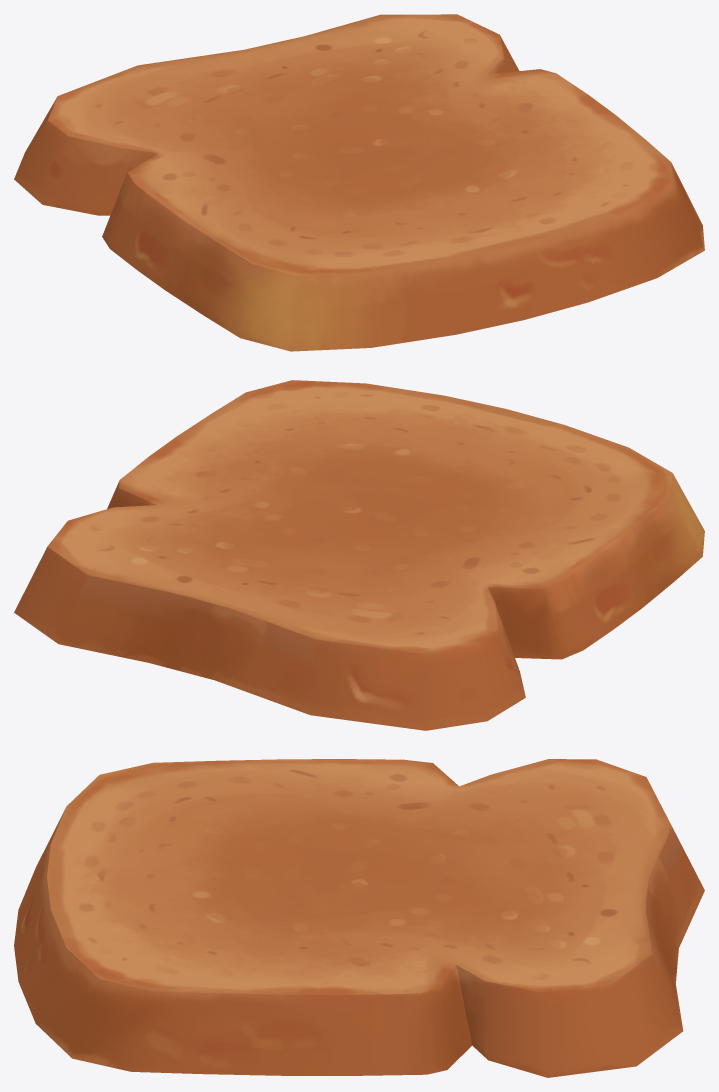
File: BreadSlice.glb
3 views of the same model, one above another, from view 1: azimuth 30°, elevation 25°; view 2: azimuth 150°, elevation 25°; view 3: azimuth 270°, elevation 25° (orthographic). The views are drawn at different scales.
Parts seen in each view (by area): view 1: Object_9.001; view 2: Object_9.001; view 3: Object_9.001.
Part boxes in pixels (x1,y1,x2,y2): Object_9.001: (14,14,704,351); Object_9.001: (14,380,704,730); Object_9.001: (14,759,704,1077).
Bounding box in the file's own units: 0.2561 × 0.031 × 0.2826.
1 material, 1 textured.
